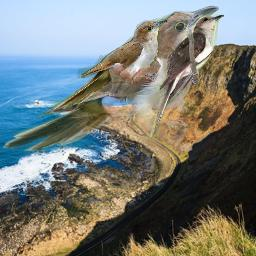Cuckoo: (2, 5, 219, 151), (52, 18, 168, 110), (150, 14, 224, 139)
